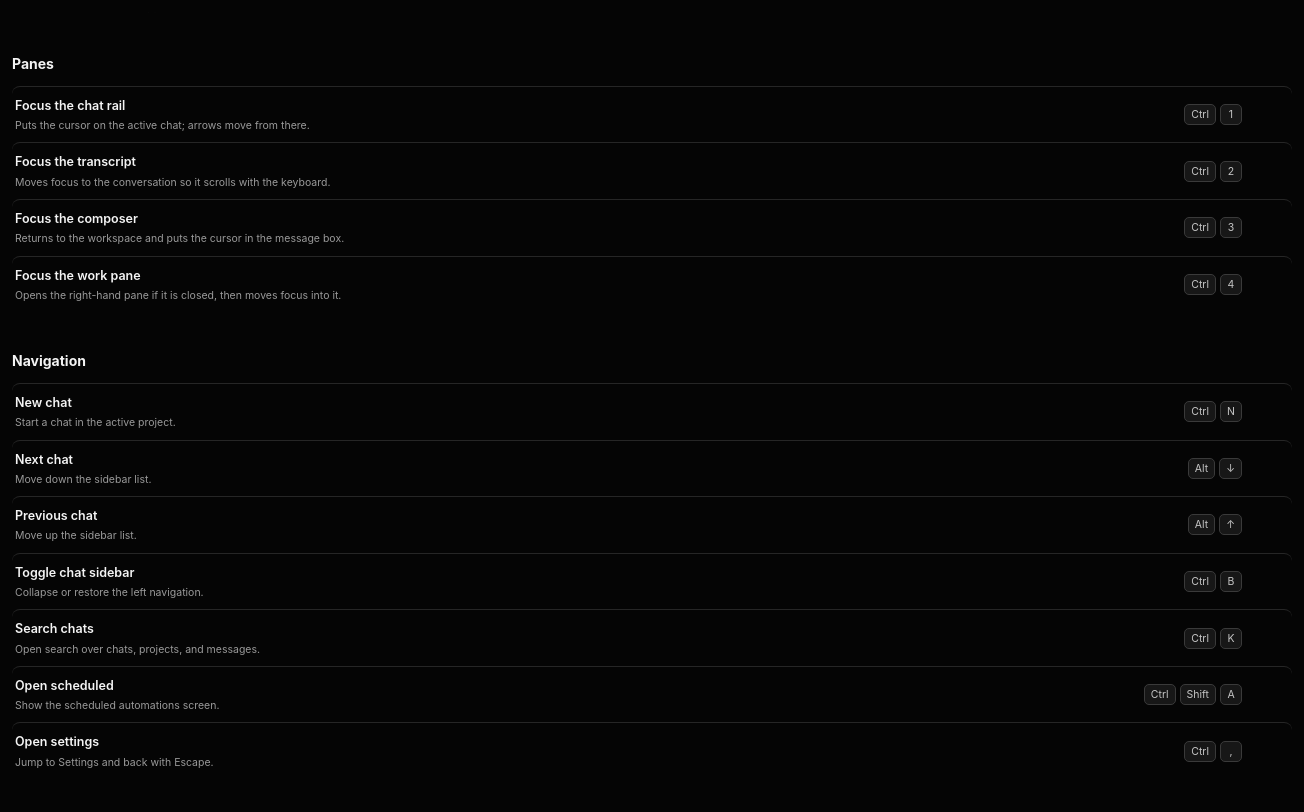
Scenario: KeybindingsSettings › cancels on Escape and leaves the binding alone
(page scrolled)
Click the button with aria-label "Change the shortcut".
click(1193, 412)  # box top-left (1134, 396), bottom-right (1252, 427)
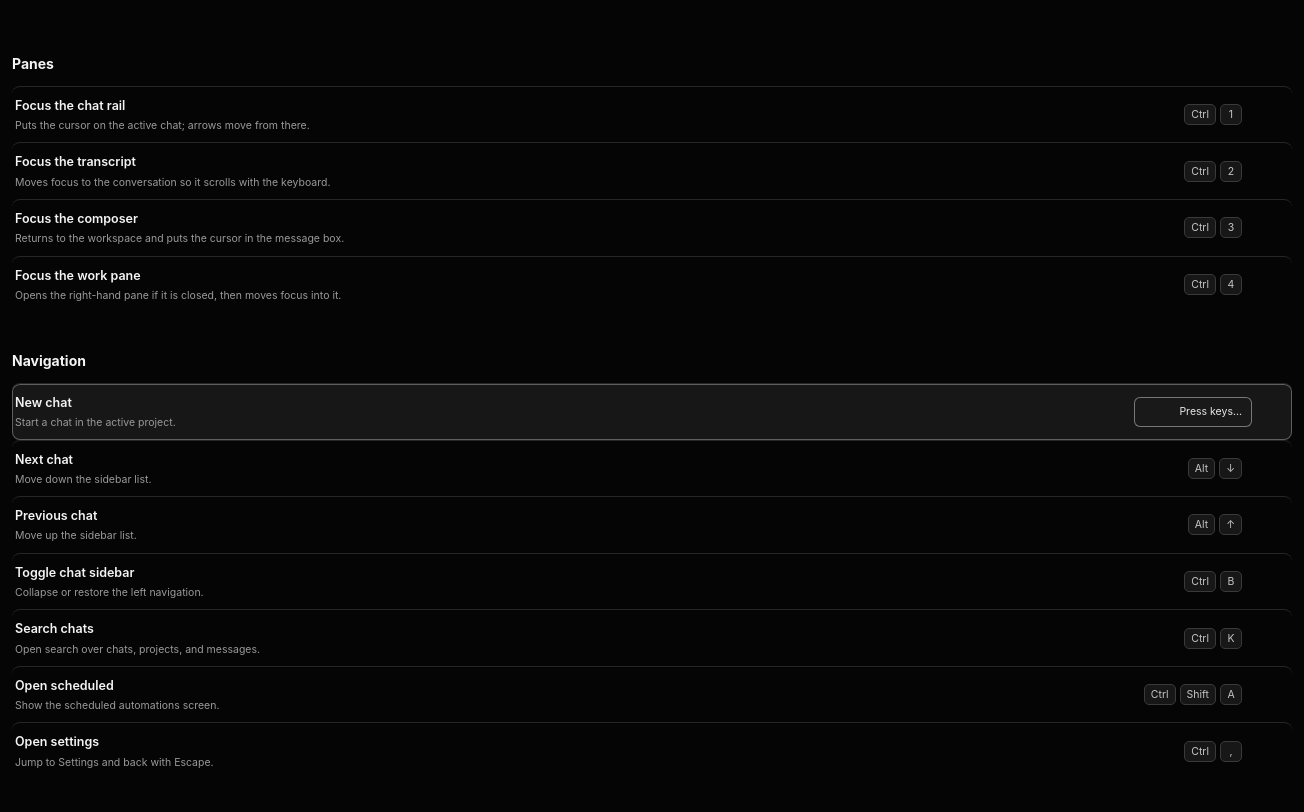
Press Escape
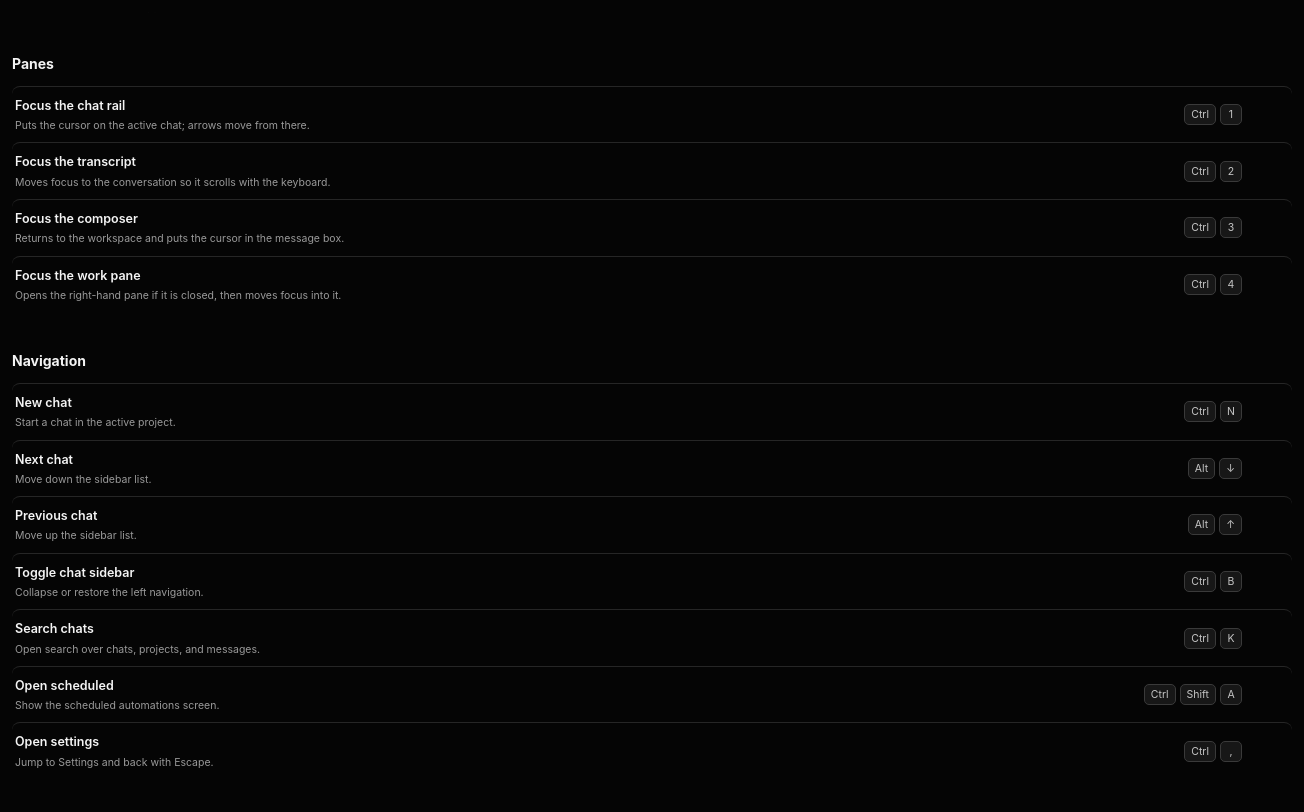
Now the text "Press keys…" is gone
